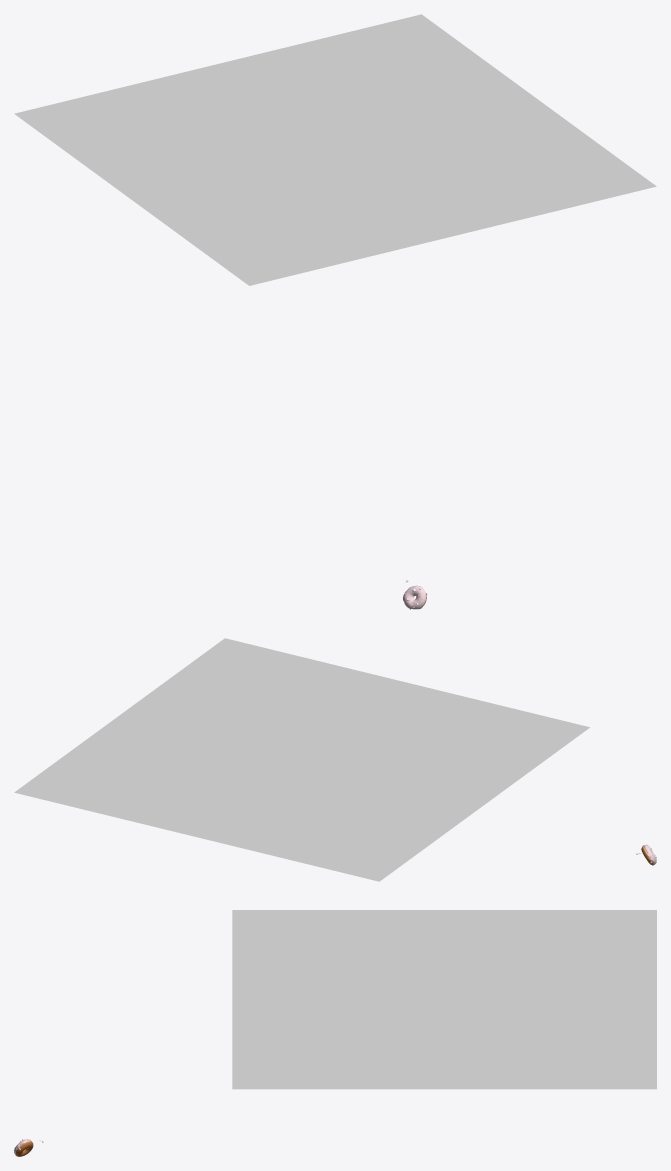
File: donut.glb
3 views of the same model, one above another, from view 1: azimuth 30°, elevation 25°; view 2: azimuth 150°, elevation 25°; view 3: azimuth 270°, elevation 25° (orthographic). The views are drawn at different scales.
Visible parts, largest first — view 1: falling_sprinkles; view 2: falling_sprinkles; view 3: falling_sprinkles.
Part boxes in pixels (x1=…): falling_sprinkles: x1=14, y1=14, x2=656, y2=285; falling_sprinkles: x1=14, y1=638, x2=589, y2=881; falling_sprinkles: x1=232, y1=910, x2=656, y2=1089.
Size of the model in its own units: 2 by 1.17 by 3.03.
4 materials, 1 textured.
